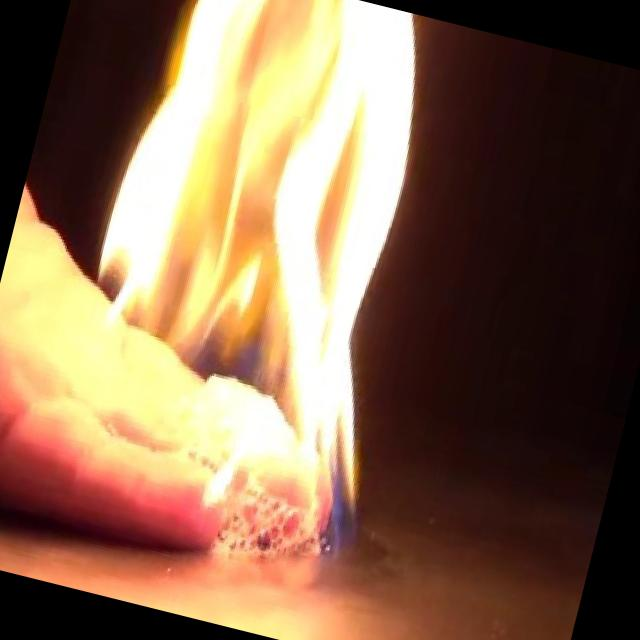Fire: (28, 0, 485, 560)
